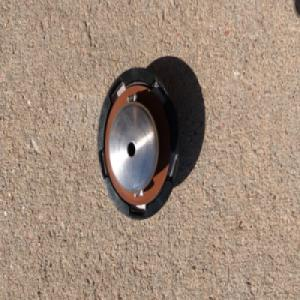FuelCap: (95, 65, 181, 221)
